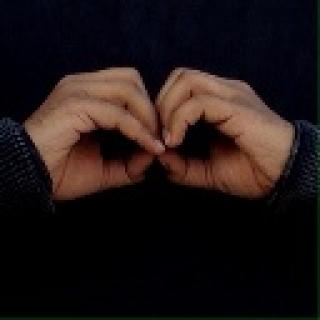B: (25, 61, 298, 205)
